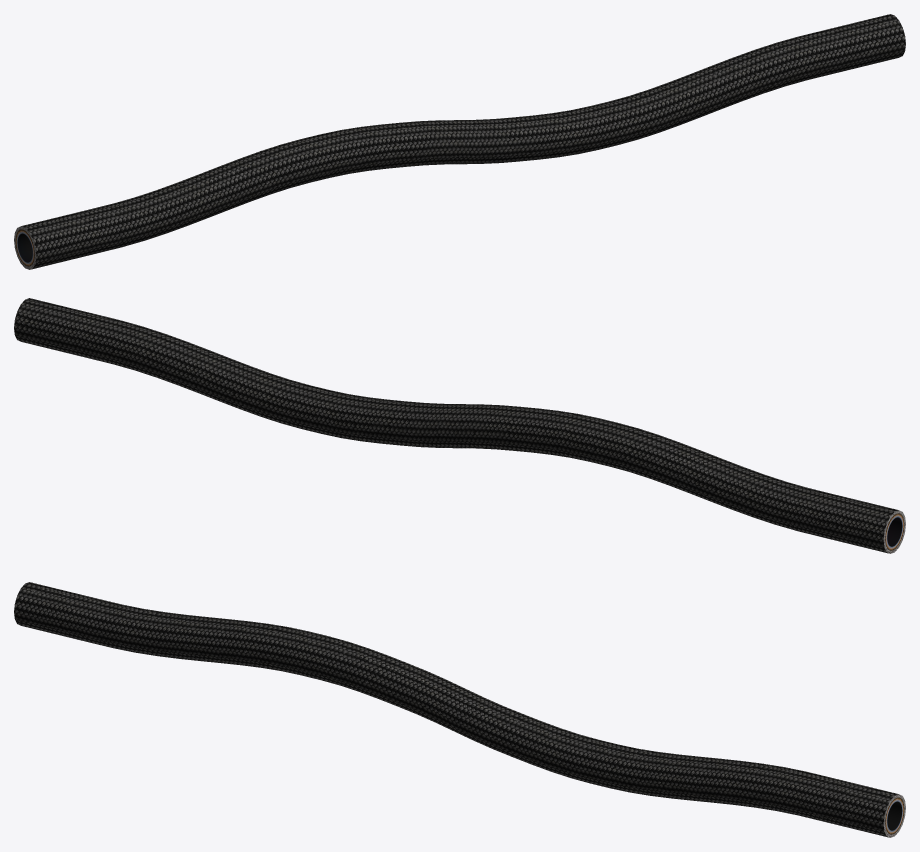
File: HTPB_V2.glb
3 renders of one model, top to bottom at view 1: azimuth 30°, elevation 25°; view 2: azimuth 150°, elevation 25°; view 3: azimuth 330°, elevation 25°, orthographic.
Visible parts, largest first — view 1: Polymer Braid.001; view 2: Polymer Braid.001; view 3: Polymer Braid.001.
Boxes of the visible parts, x1,y1,x2,y2 form: Polymer Braid.001: (14, 14, 905, 269); Polymer Braid.001: (14, 298, 905, 553); Polymer Braid.001: (14, 582, 905, 837).
Bounding box in the file's own units: 0.3074 × 0.0264 × 0.0137.
Materials: 2 (2 with a texture image).
